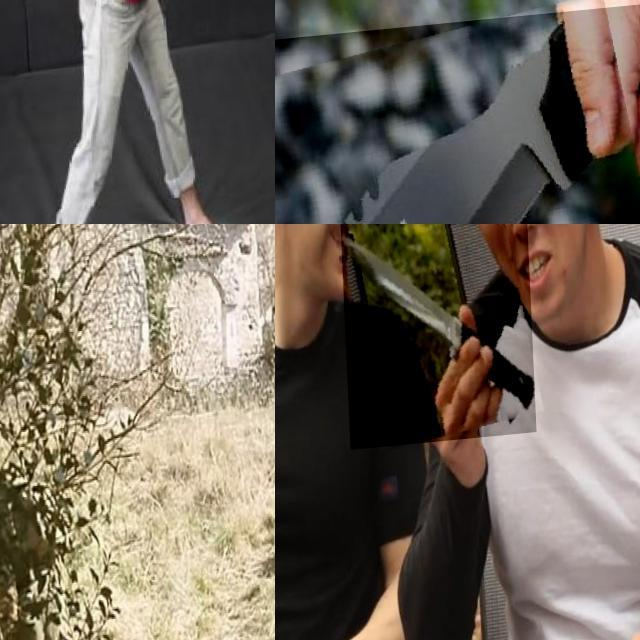-: (275, 13, 640, 224), (338, 224, 532, 454), (144, 0, 245, 54)
